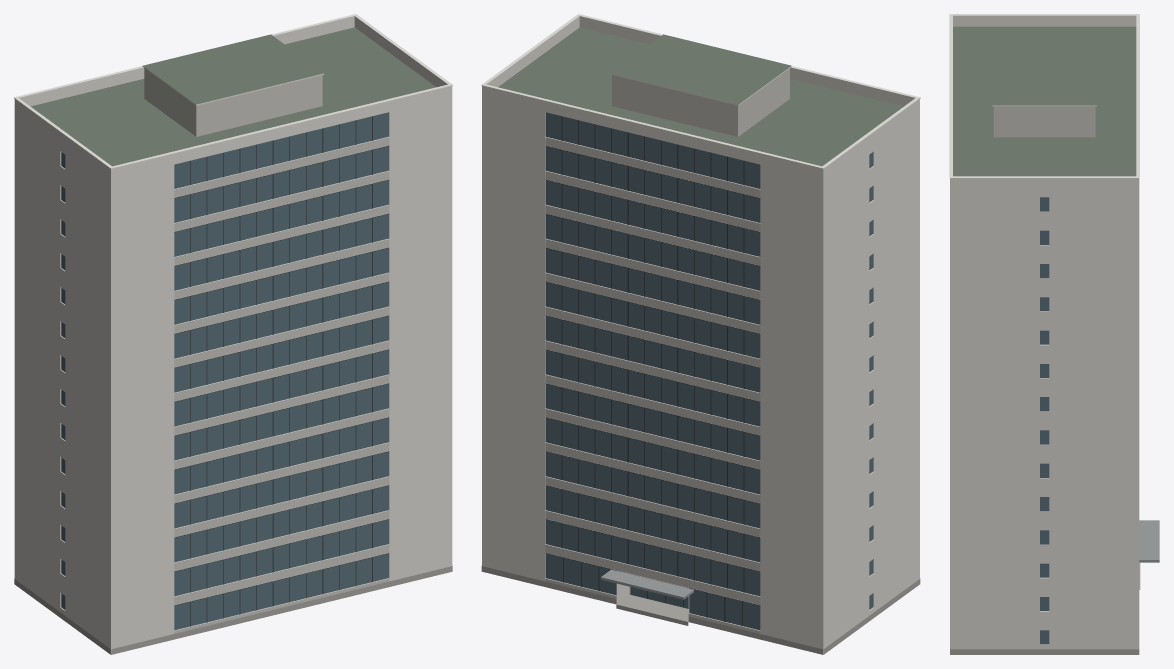
3 renders of one model, left to right at view 1: azimuth 30°, elevation 25°; view 2: azimuth 150°, elevation 25°; view 3: azimuth 270°, elevation 25°, orthographic.
Parts seen in each view (by area): view 1: intlEdu__wall, intlEdu__glass, intlEdu__spandrel, intlEdu__roof, intlEdu__frame, intlEdu__parapet, intlEdu__wall2, intlEdu__trim, intlEdu__base; view 2: intlEdu__wall, intlEdu__glass, intlEdu__spandrel, intlEdu__roof, intlEdu__frame, intlEdu__parapet, intlEdu__wall2, intlEdu__base, intlEdu__trim, intlEdu__canopy; view 3: intlEdu__wall, intlEdu__roof, intlEdu__parapet, intlEdu__wall2, intlEdu__trim, intlEdu__glass, intlEdu__base, intlEdu__canopy.
Part boxes in pixels (x1,y1,x2,y2): intlEdu__wall: [14, 96, 452, 654]; intlEdu__glass: [61, 112, 388, 630]; intlEdu__spandrel: [174, 137, 389, 633]; intlEdu__roof: [30, 27, 435, 166]; intlEdu__frame: [174, 116, 388, 626]; intlEdu__parapet: [14, 16, 452, 179]; intlEdu__wall2: [144, 68, 322, 136]; intlEdu__trim: [14, 14, 452, 169]; intlEdu__base: [14, 566, 452, 654]; intlEdu__wall: [482, 96, 919, 654]; intlEdu__glass: [545, 112, 872, 630]; intlEdu__spandrel: [545, 137, 760, 633]; intlEdu__roof: [498, 27, 903, 654]; intlEdu__frame: [545, 116, 760, 626]; intlEdu__parapet: [482, 16, 919, 179]; intlEdu__wall2: [612, 68, 789, 136]; intlEdu__base: [481, 566, 920, 654]; intlEdu__trim: [481, 14, 920, 169]; intlEdu__canopy: [600, 569, 693, 599]; intlEdu__wall: [950, 188, 1139, 649]; intlEdu__roof: [953, 26, 1136, 176]; intlEdu__parapet: [950, 15, 1139, 188]; intlEdu__wall2: [993, 106, 1095, 137]; intlEdu__trim: [949, 14, 1139, 178]; intlEdu__glass: [1040, 197, 1049, 644]; intlEdu__base: [950, 562, 1140, 654]; intlEdu__canopy: [1139, 520, 1159, 562].
Bounding box in the file's own units: 38 × 54.3 × 20.63.
